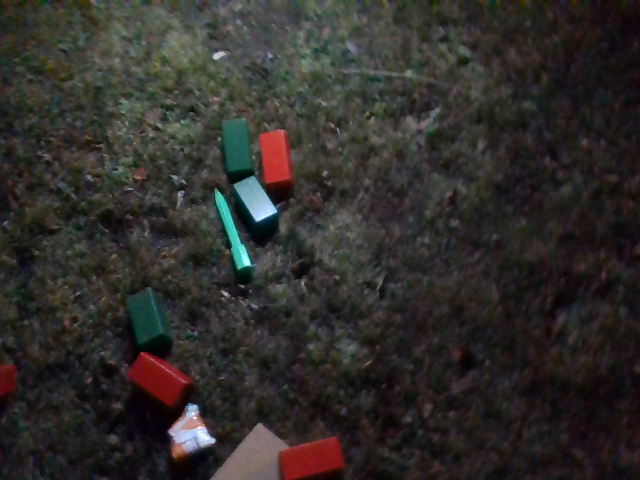Probe: (208, 184, 260, 280)
